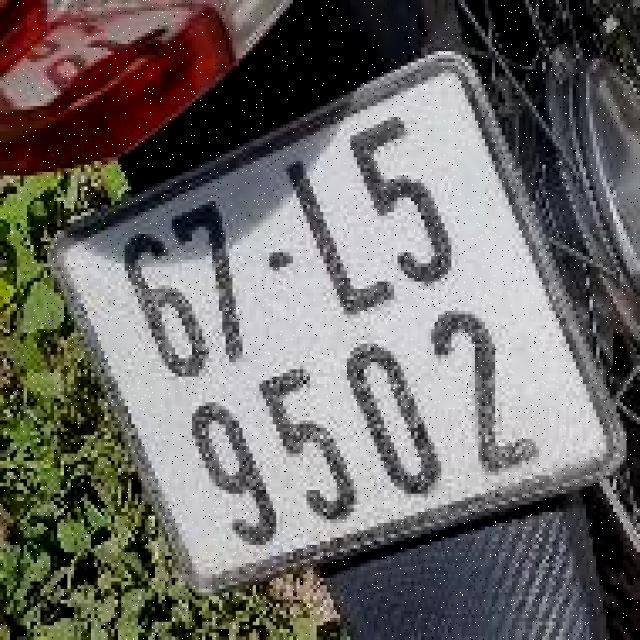0: (326, 322, 462, 516)
2: (412, 283, 556, 490)
5: (336, 101, 472, 298), (245, 353, 372, 532)
6: (105, 219, 219, 393)
7: (162, 190, 263, 371)
9: (172, 386, 292, 558)
L: (273, 137, 406, 335)
